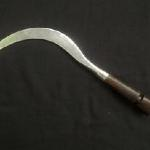Celurit: (0, 15, 150, 121)
